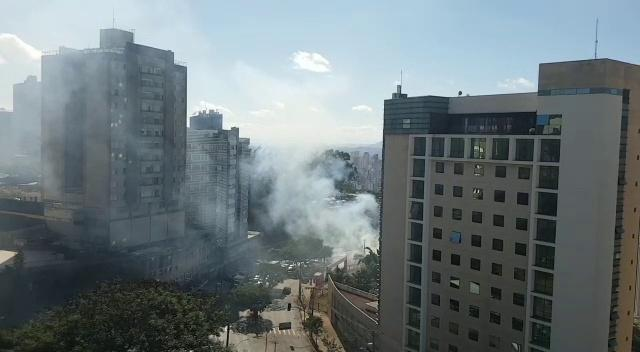smoke: (274, 159, 322, 214)
